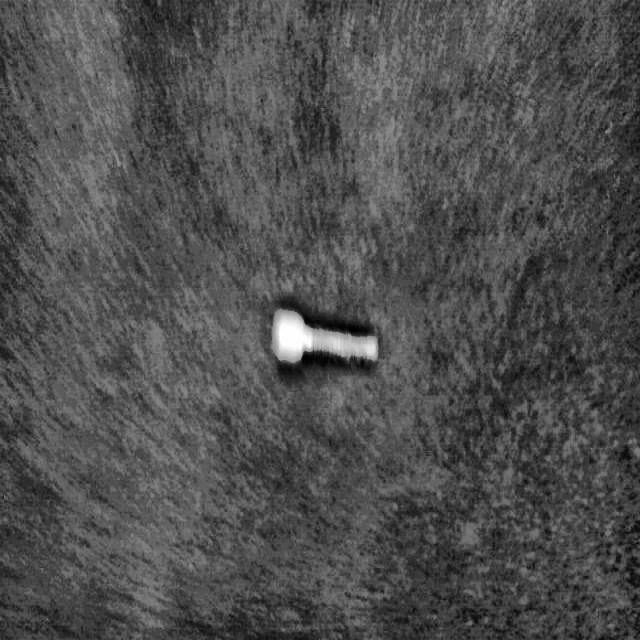Socket head cap screw: (271, 306, 379, 374)
